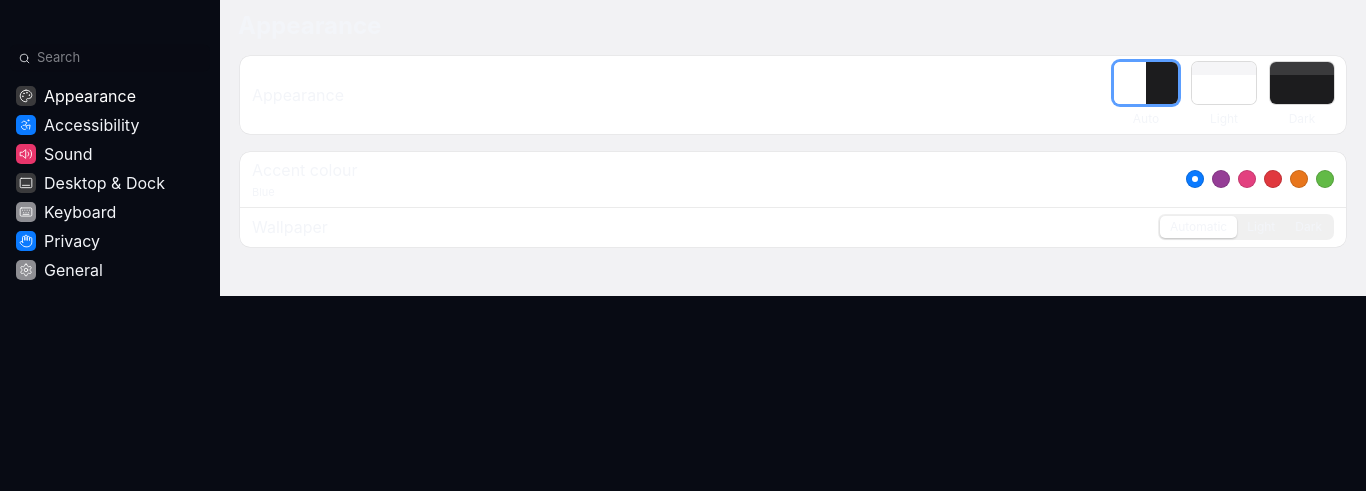
Test: System Settings › MAC-SET-01: search filters the panes and highlights the matching control
Type "contrast" into the search field named "Search settings".
click(120, 58); type("contrast")  # box [37, 48, 202, 68]
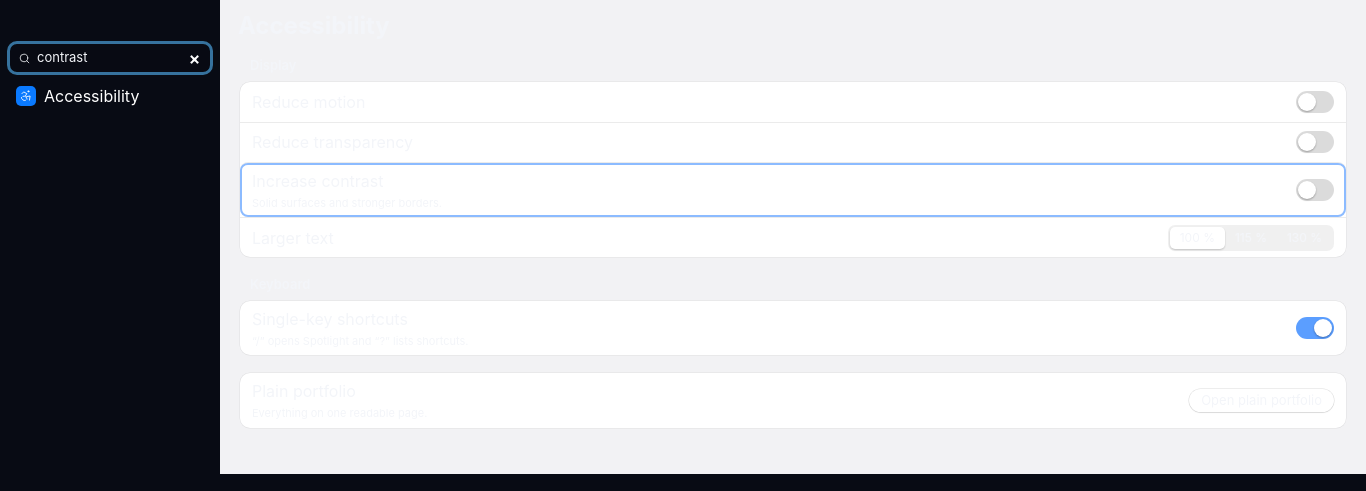
Expected: the buttons read "Accessibility", in this order, [10, 82, 210, 110]
